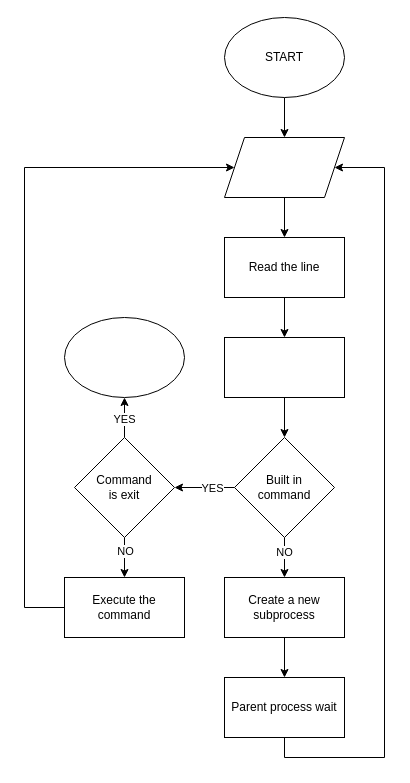
This 410x783 diagram has some shape labels left out. The shapes that lost their labels are listed below. From the top down, each one's centre as x and y in pixels, then its label:
At [284,167]: "Input a command".
At [124,357]: "STOP".
At [284,367]: "Search a command".
